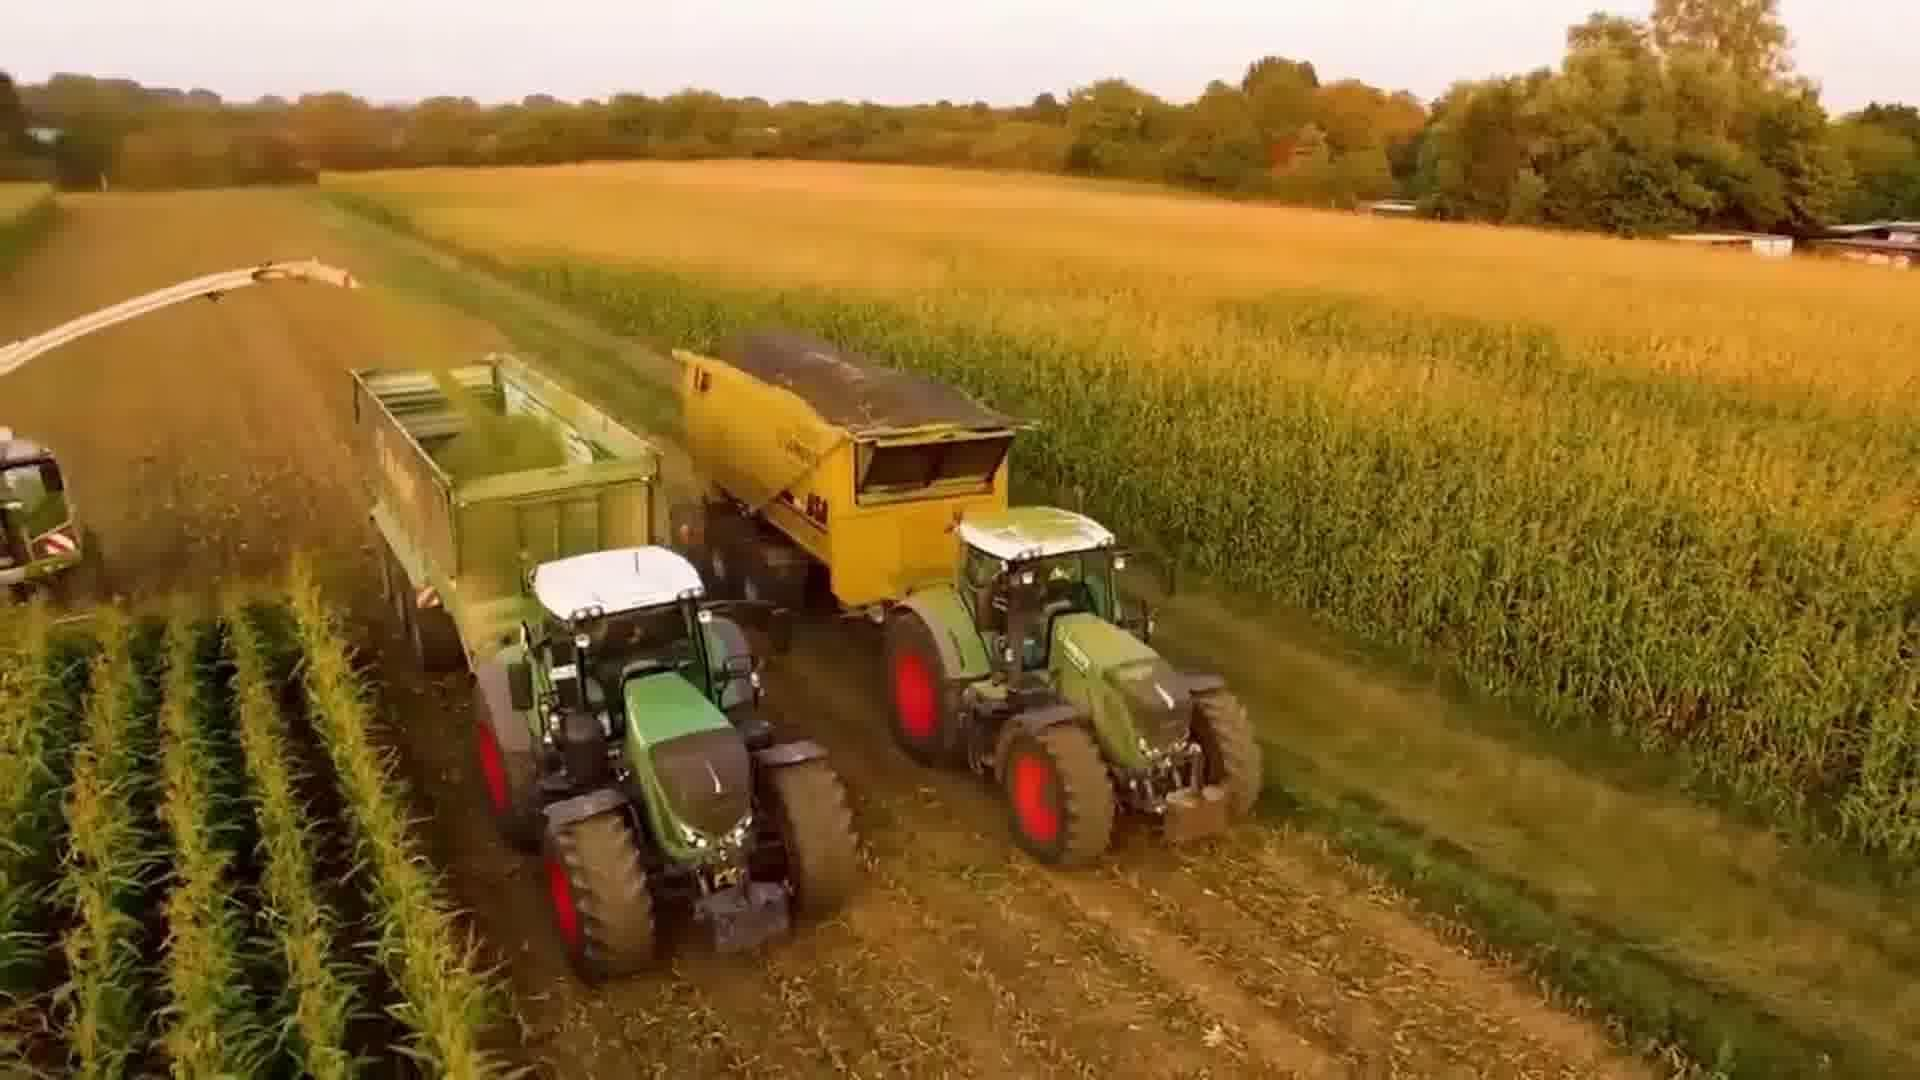combine harvester: (0, 244, 356, 599)
tractor: (465, 533, 868, 993), (874, 498, 1279, 885)
trailer: (662, 323, 1038, 612), (343, 348, 673, 674)
